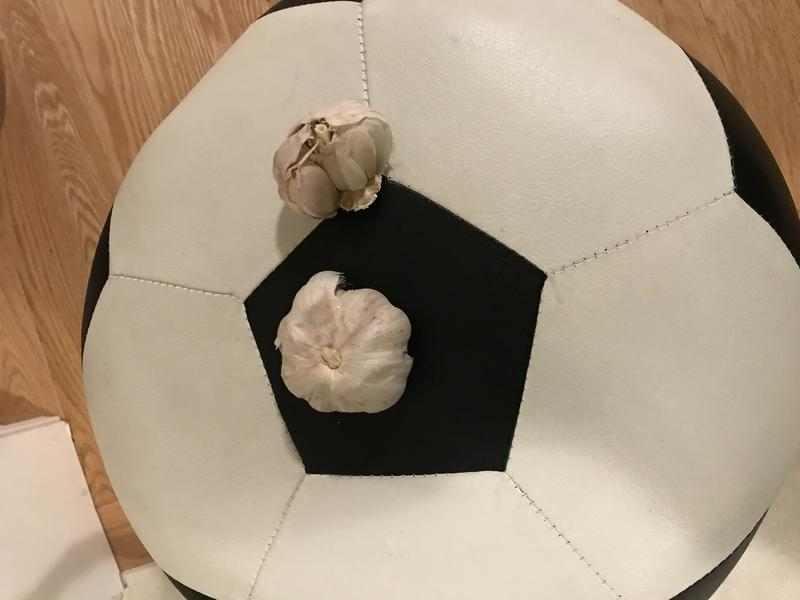garlic: (266, 265, 425, 421), (266, 96, 404, 230)
